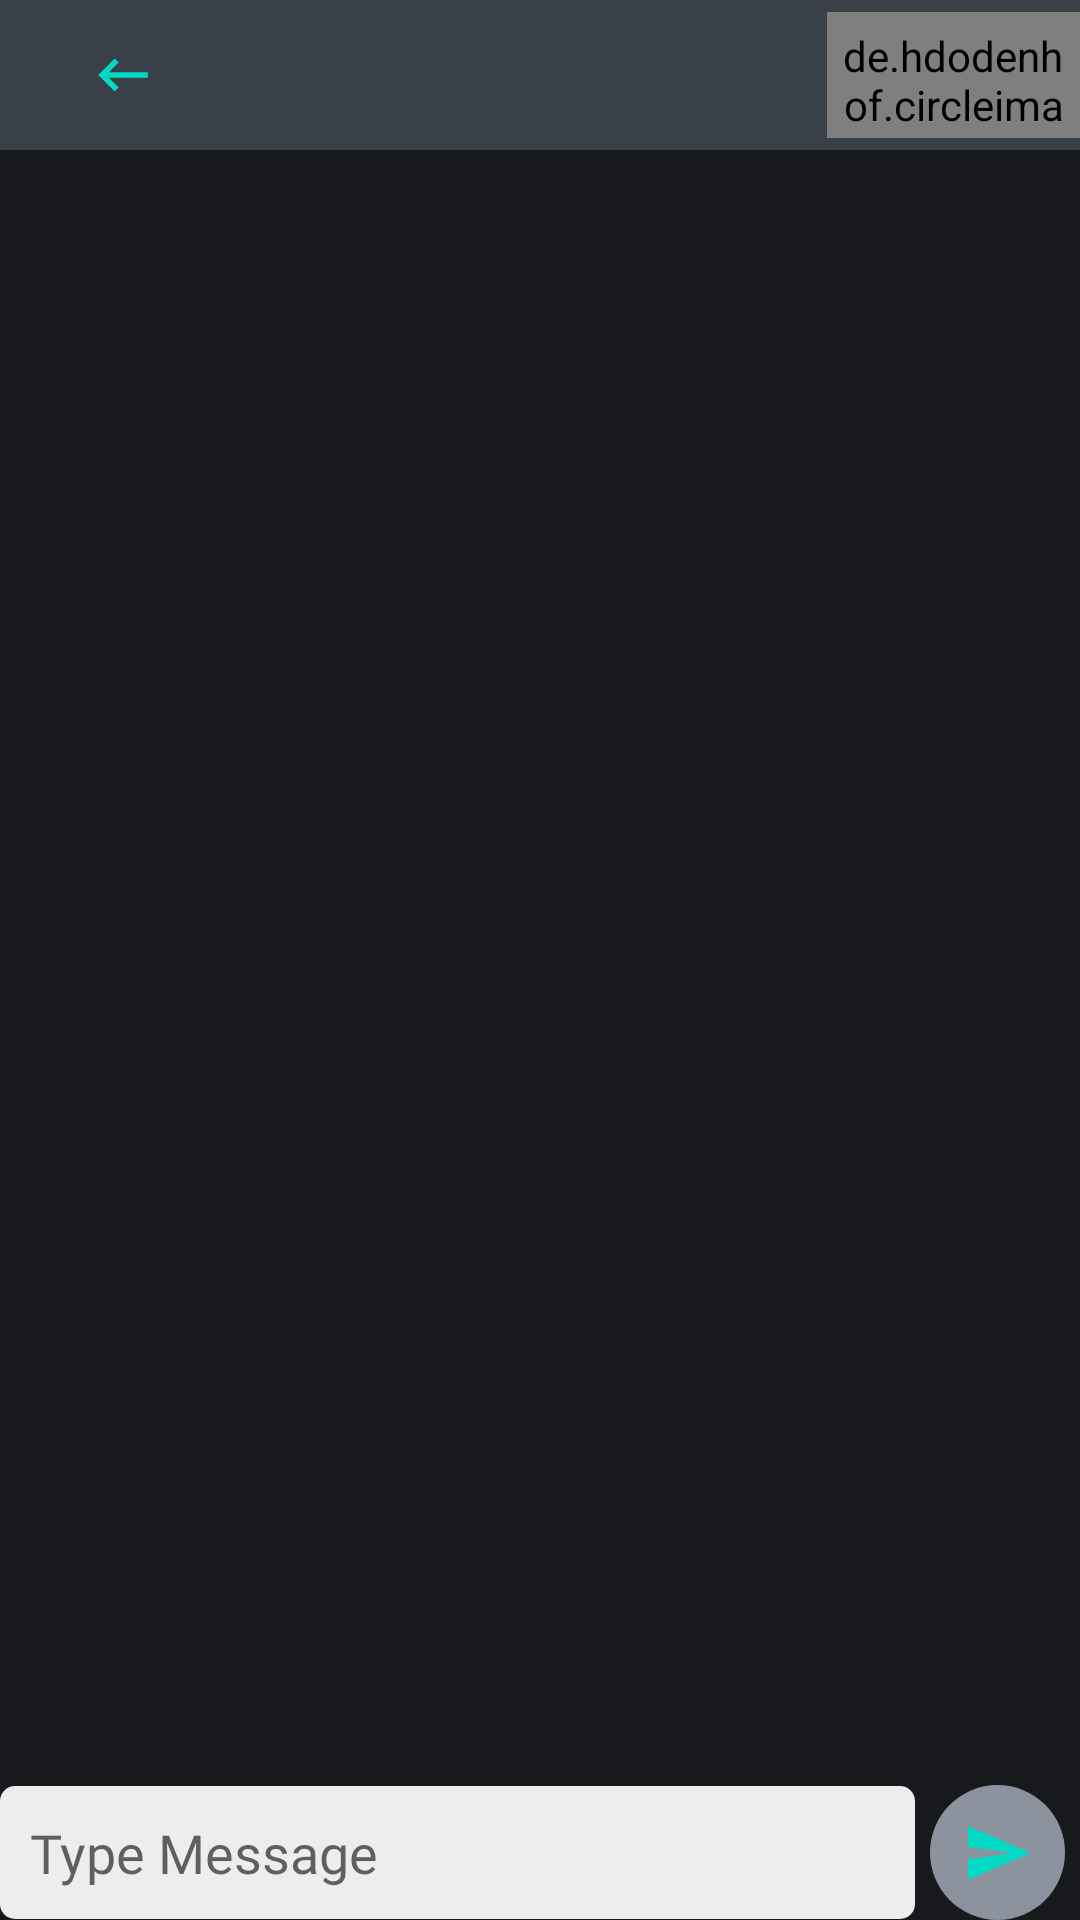

Where icons sit on this 1080×1920 app screen, as (x1, y1, x2, y2):
keyboard backspace: (98, 58, 148, 92)
send: (930, 1785, 1065, 1920)
